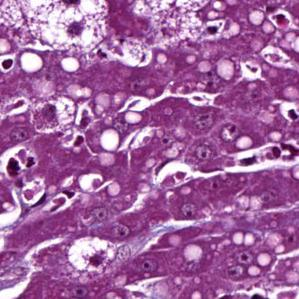ballooning: (15, 3, 112, 55)
